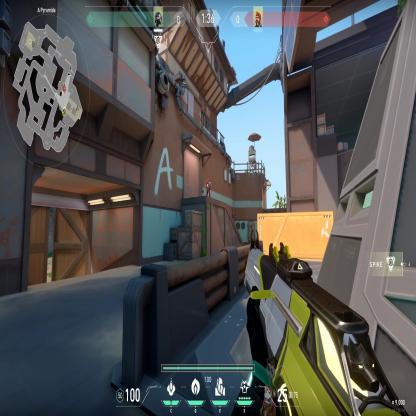enemy: (204, 176, 212, 198)
